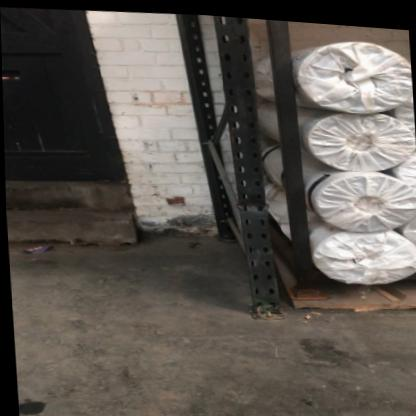vertical_damage: (230, 158, 286, 231)
